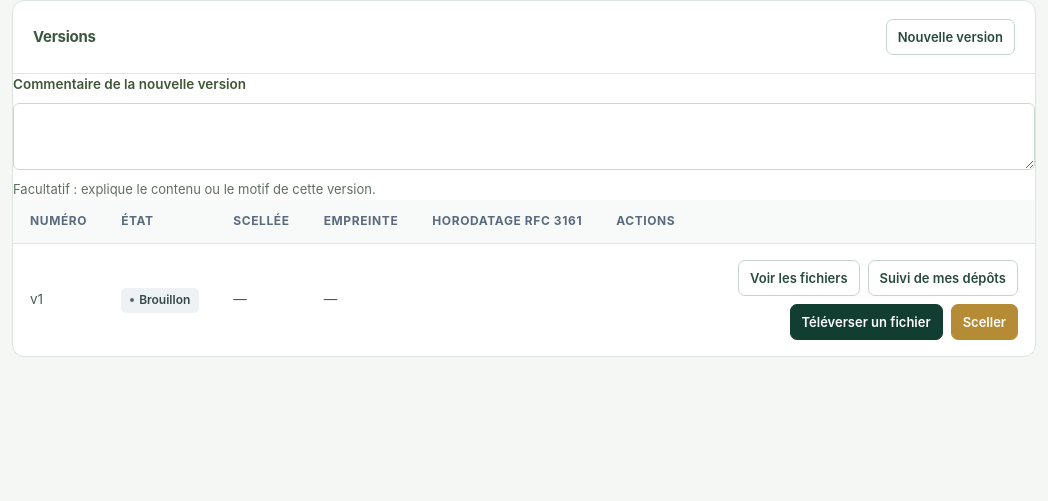
Test: une erreur sans explication particulière reste affichée telle quelle
This screenshot has width=1048, height=501.
What coordinates should you click on to do the following:
click the button "Sceller"
I would click on:
 (984, 322)
Its box is [951,304,1018,340].
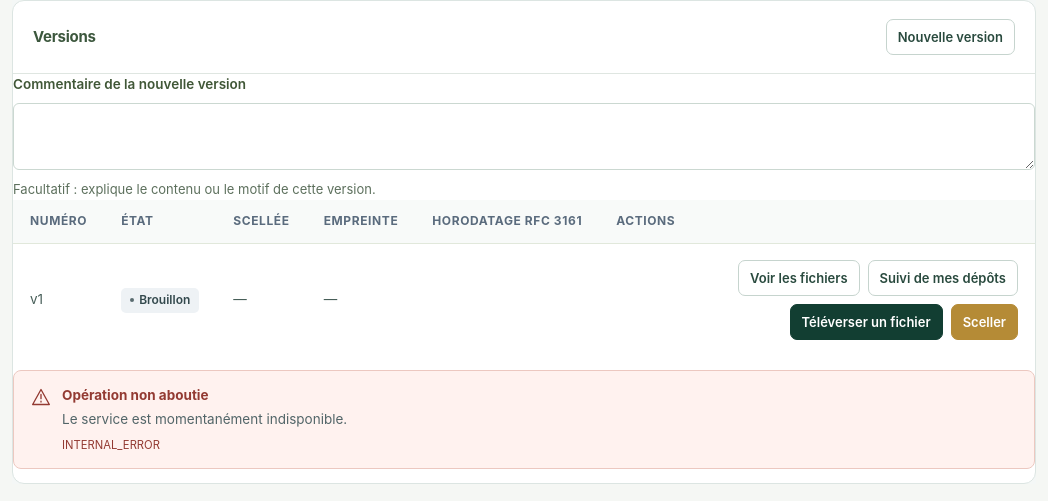
Check: the text "Le service est momentanément indisponible." is shown, box [62,407,347,431]
